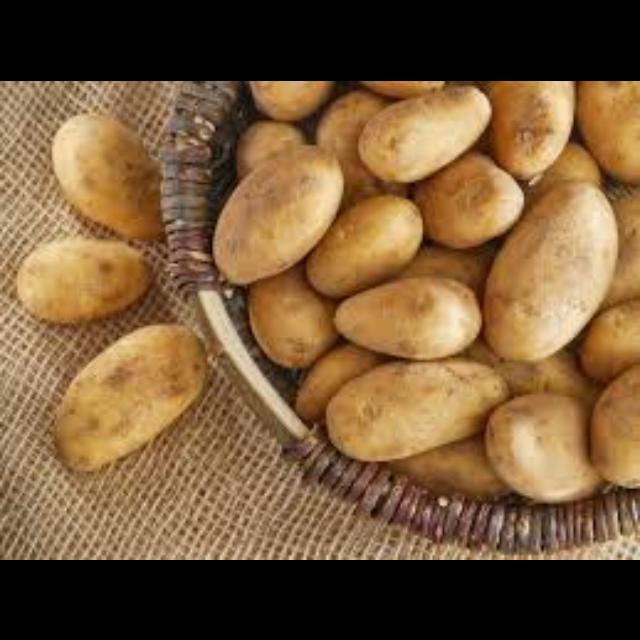Diseased-fungal potato: (42, 311, 215, 479), (412, 137, 532, 261)
Potato: (476, 174, 614, 356), (204, 140, 340, 296), (327, 352, 517, 460), (40, 109, 178, 241), (332, 274, 490, 366), (13, 232, 160, 328), (482, 386, 600, 500), (298, 195, 432, 288), (356, 90, 498, 176), (476, 80, 588, 180), (249, 271, 335, 367), (572, 373, 640, 493), (574, 80, 640, 178)
